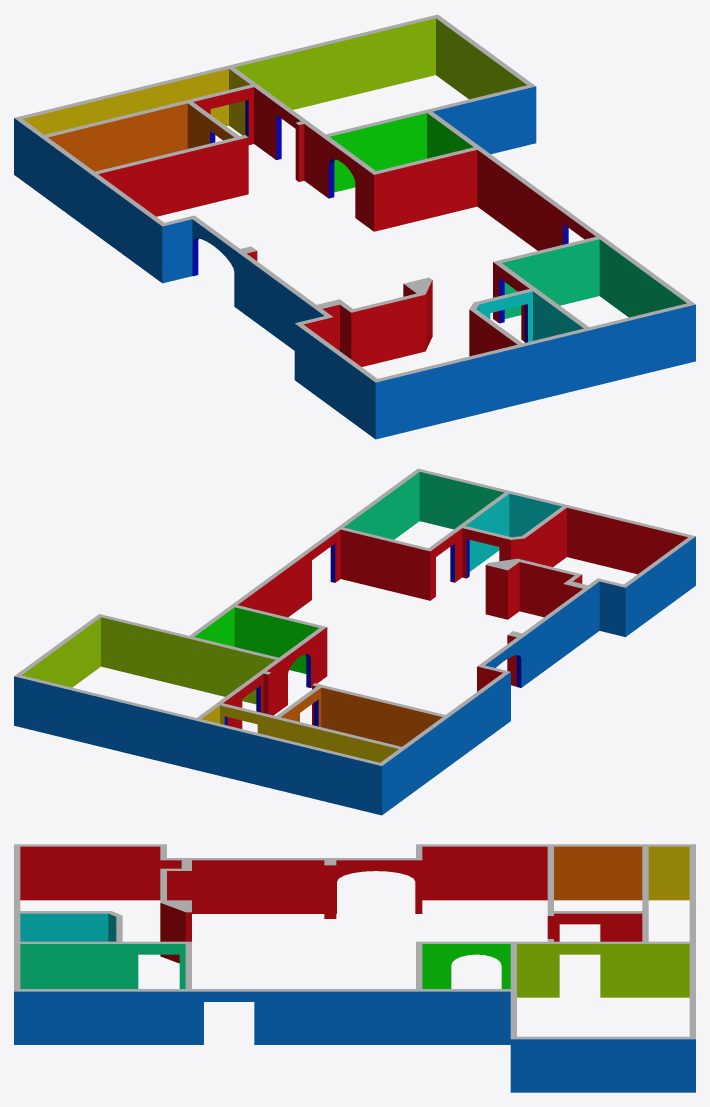
File: House Floor One.fbx
The picture shows the model from 3 angles, top to bottom: view 1: azimuth 30°, elevation 25°; view 2: azimuth 150°, elevation 25°; view 3: azimuth 270°, elevation 25°; orthographic projection. The views are drawn at different scales.
Parts seen in each view (by area): view 1: polySurface22; view 2: polySurface22; view 3: polySurface22.
Part boxes in pixels (left/top/right/bottom): polySurface22: left=14, top=14, right=695, bottom=439; polySurface22: left=14, top=468, right=695, bottom=815; polySurface22: left=14, top=844, right=695, bottom=1092.
Bounding box in the file's own units: 1950 × 250 × 2882.
